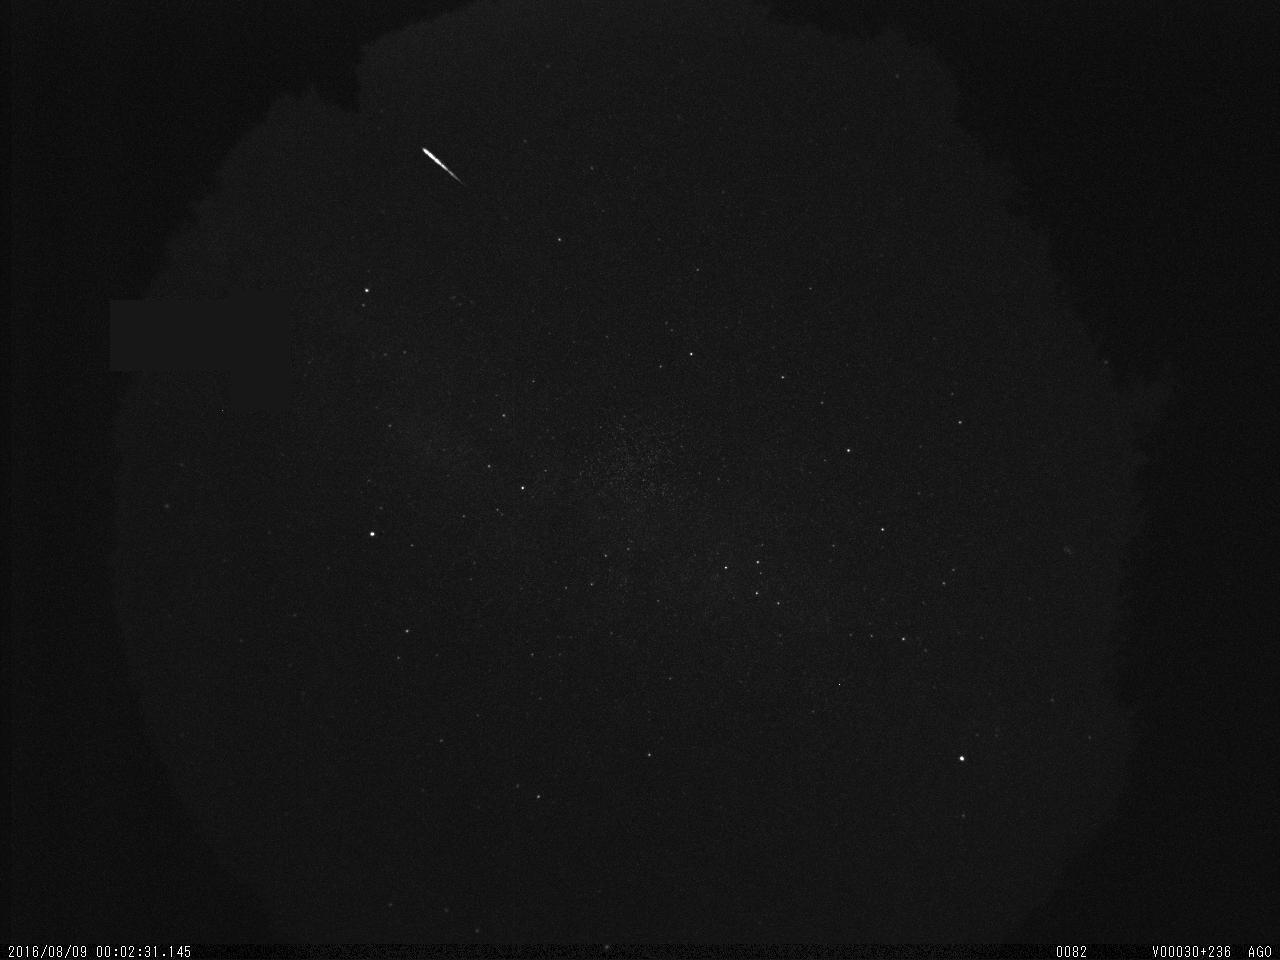meteor: (418, 136, 474, 196)
